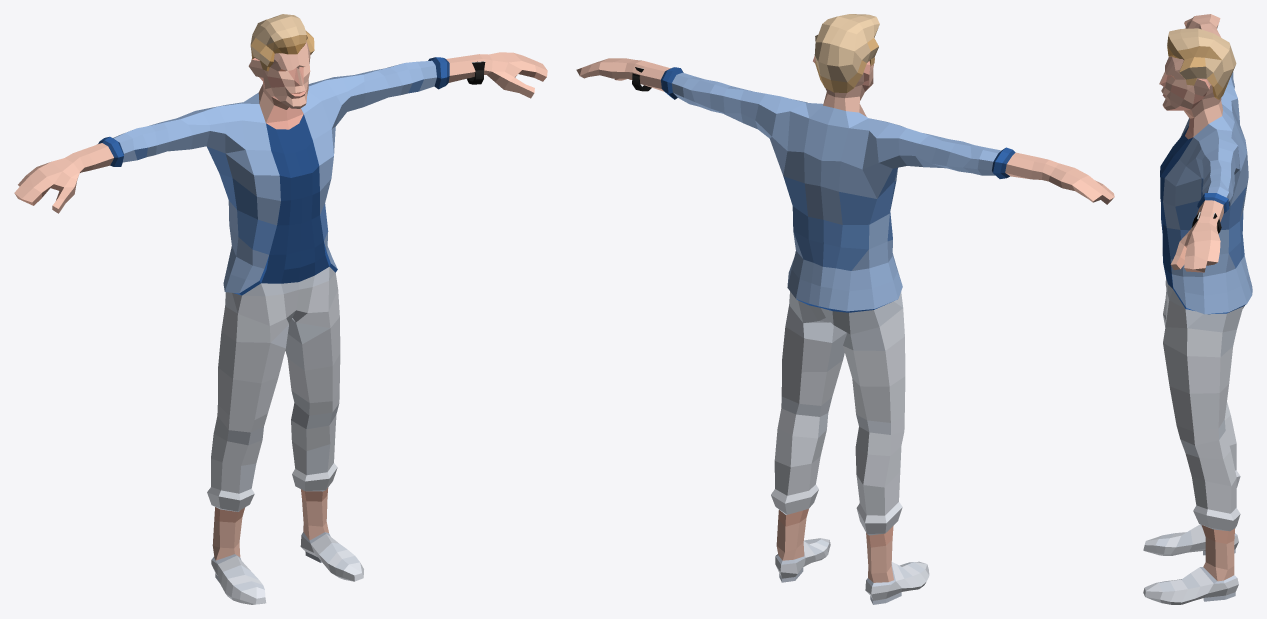
The model's file is night_Male_B-model.fbx.
The picture shows the model from 3 angles, left to right: view 1: azimuth 30°, elevation 25°; view 2: azimuth 150°, elevation 25°; view 3: azimuth 270°, elevation 25°; orthographic projection. The views are drawn at different scales.
Visible parts, largest first — view 1: night_Male_B, acc_men_hair_brown; view 2: night_Male_B, acc_men_hair_brown; view 3: night_Male_B, acc_men_hair_brown.
Part boxes in pixels (<box>): night_Male_B: <box>14,41,547,604</box>; acc_men_hair_brown: <box>250,14,314,71</box>; night_Male_B: <box>576,56,1114,604</box>; acc_men_hair_brown: <box>814,14,879,92</box>; night_Male_B: <box>1143,14,1252,604</box>; acc_men_hair_brown: <box>1167,28,1236,99</box>.
Bounding box in the file's own units: 182 × 183 × 33.5.
1 material, 1 textured.
